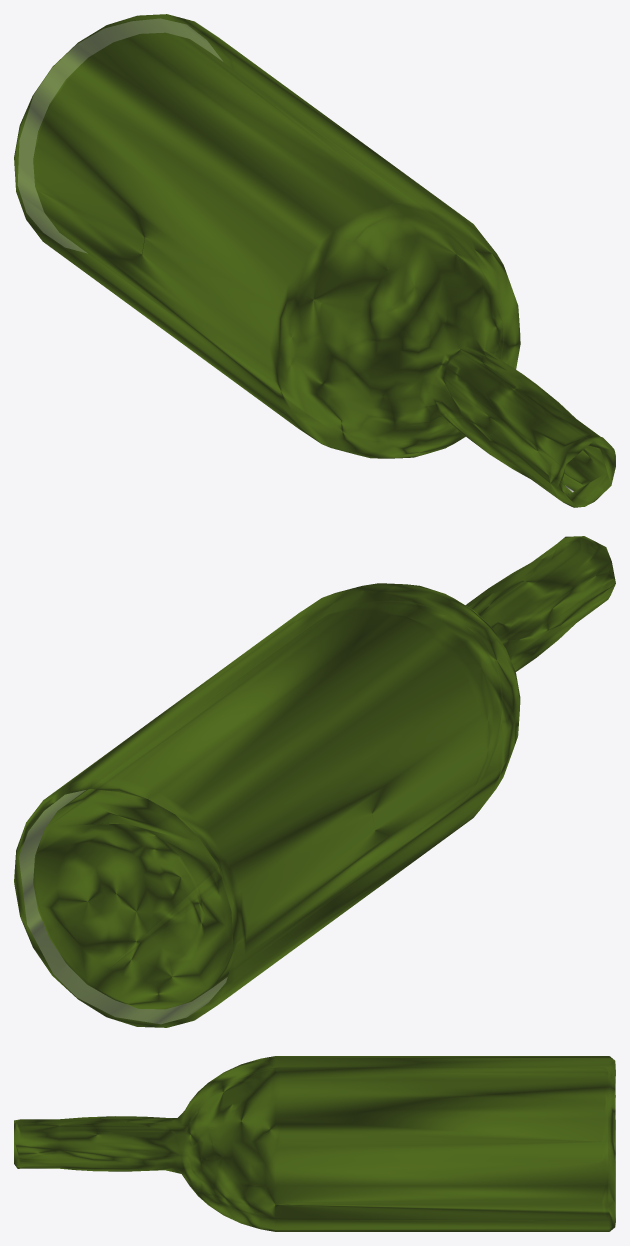
Rendered from model_align.obj.
3 renders of one model, top to bottom at view 1: azimuth 30°, elevation 25°; view 2: azimuth 150°, elevation 25°; view 3: azimuth 270°, elevation 25°, orthographic. The views are drawn at different scales.
Size of the model in its own units: 0.0627 by 0.0627 by 0.2148.
